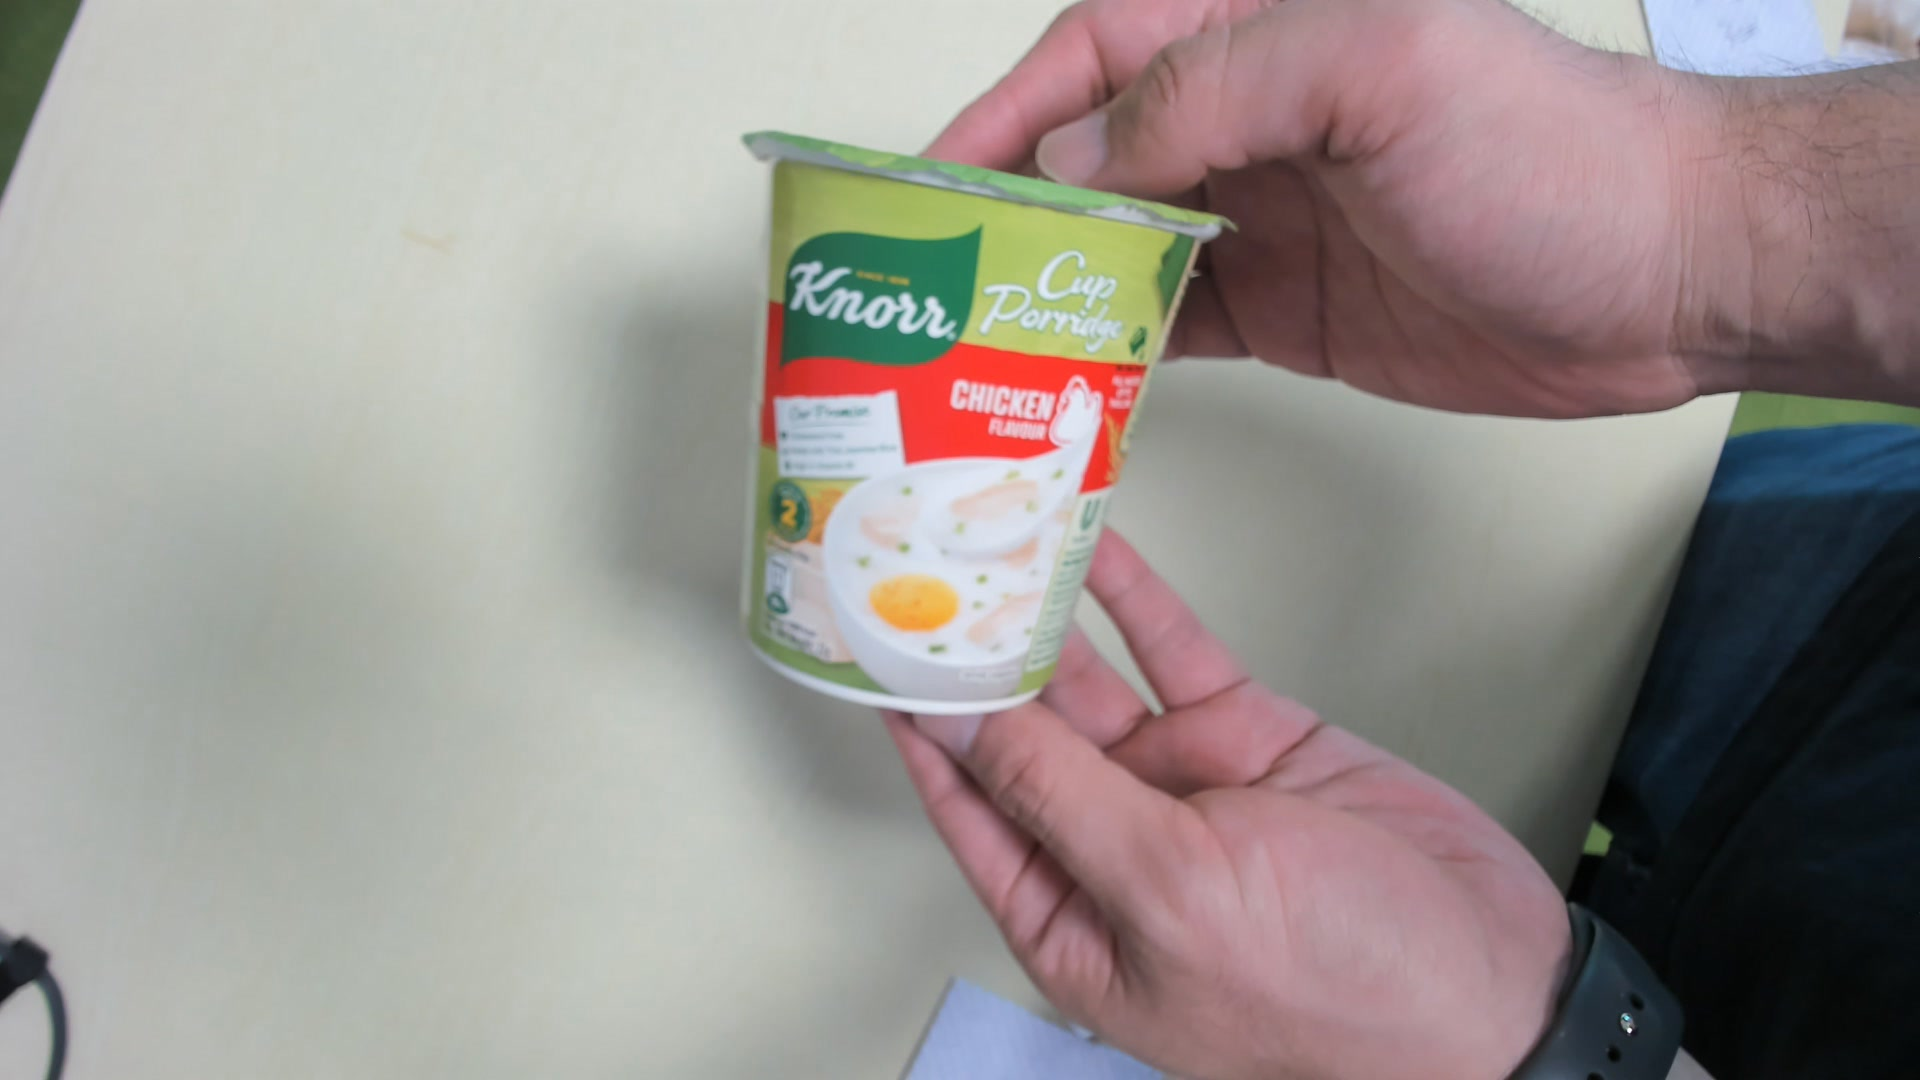InstantMeals_100-199g_Halal_NonHealthy: (721, 123, 1222, 736)
